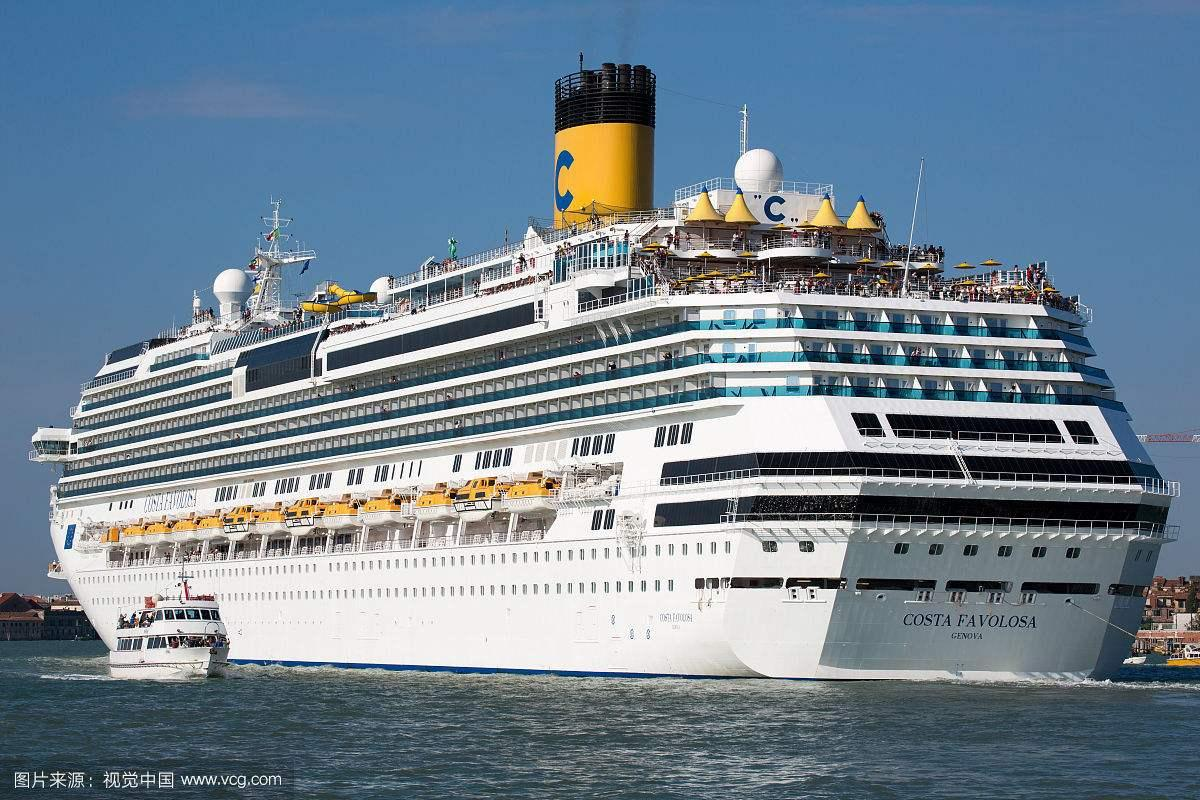yacht: (90, 588, 235, 701)
youlun: (35, 61, 1140, 662)
